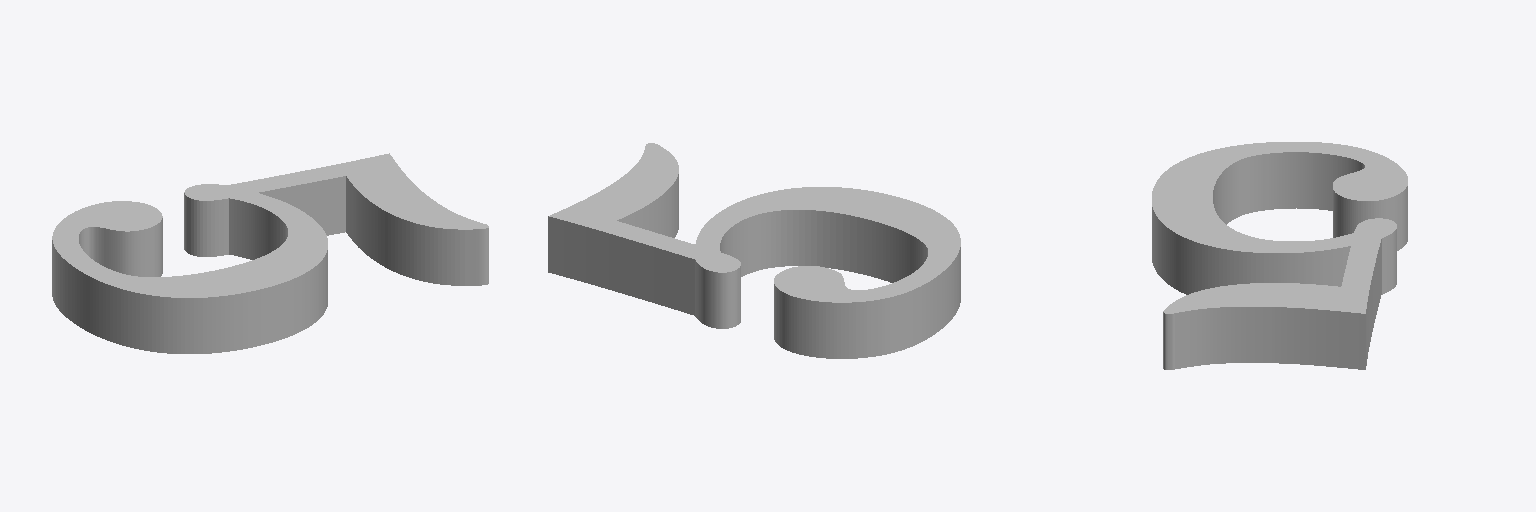
File: number5.obj
The picture shows the model from 3 angles: view 1: azimuth 30°, elevation 25°; view 2: azimuth 150°, elevation 25°; view 3: azimuth 270°, elevation 25°; orthographic projection.
Visible parts, largest first — view 1: Text.027; view 2: Text.027; view 3: Text.027.
Boxes of the visible parts, <box> form: Text.027: <box>52,153,488,353</box>; Text.027: <box>548,143,960,358</box>; Text.027: <box>1152,142,1407,369</box>.
Bounding box in the file's own units: 1.05 × 0.1602 × 0.662.